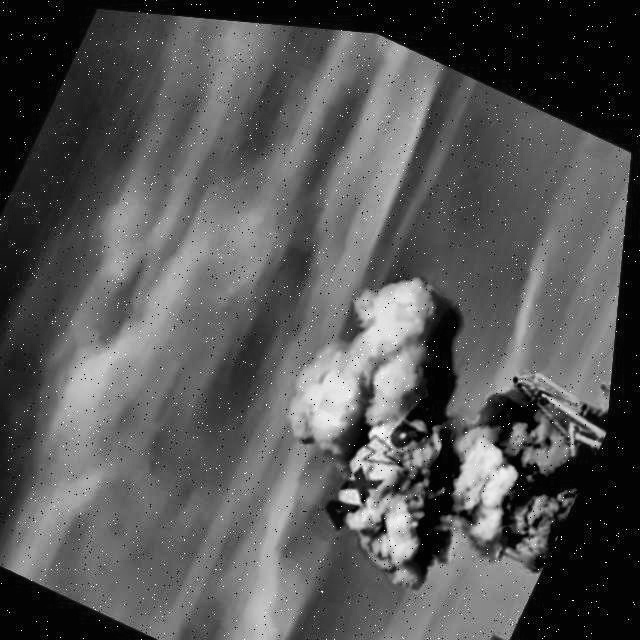Smoke: (235, 235, 625, 634)
